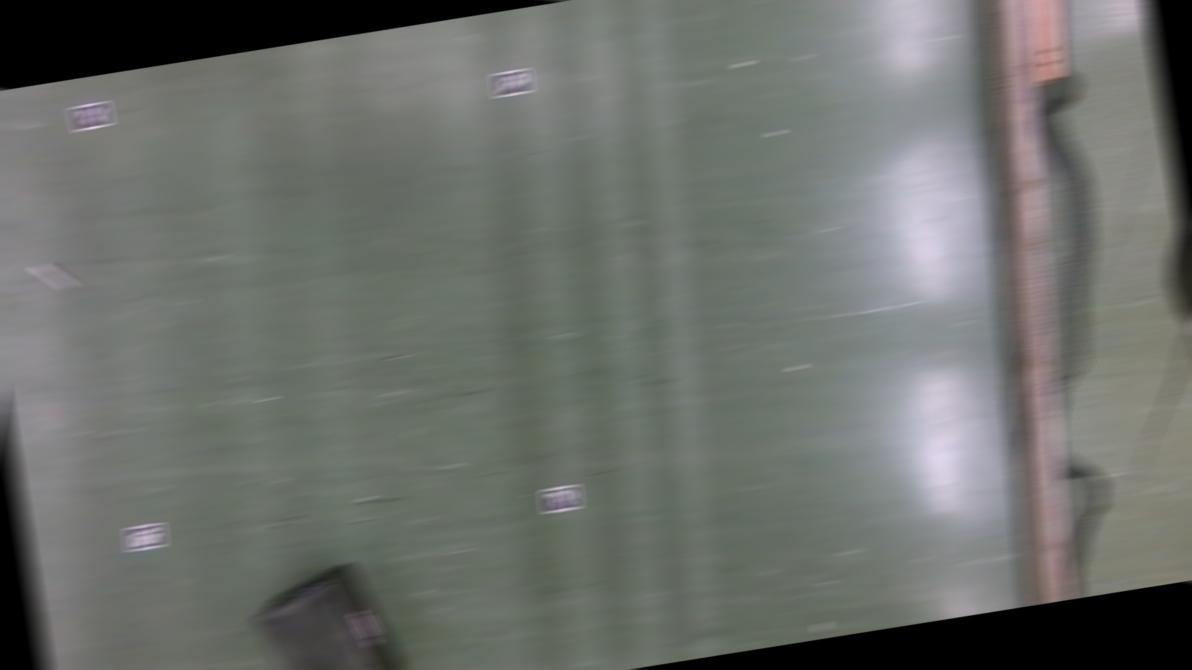probes: (31, 258, 79, 296)
rako: (245, 554, 411, 670)
